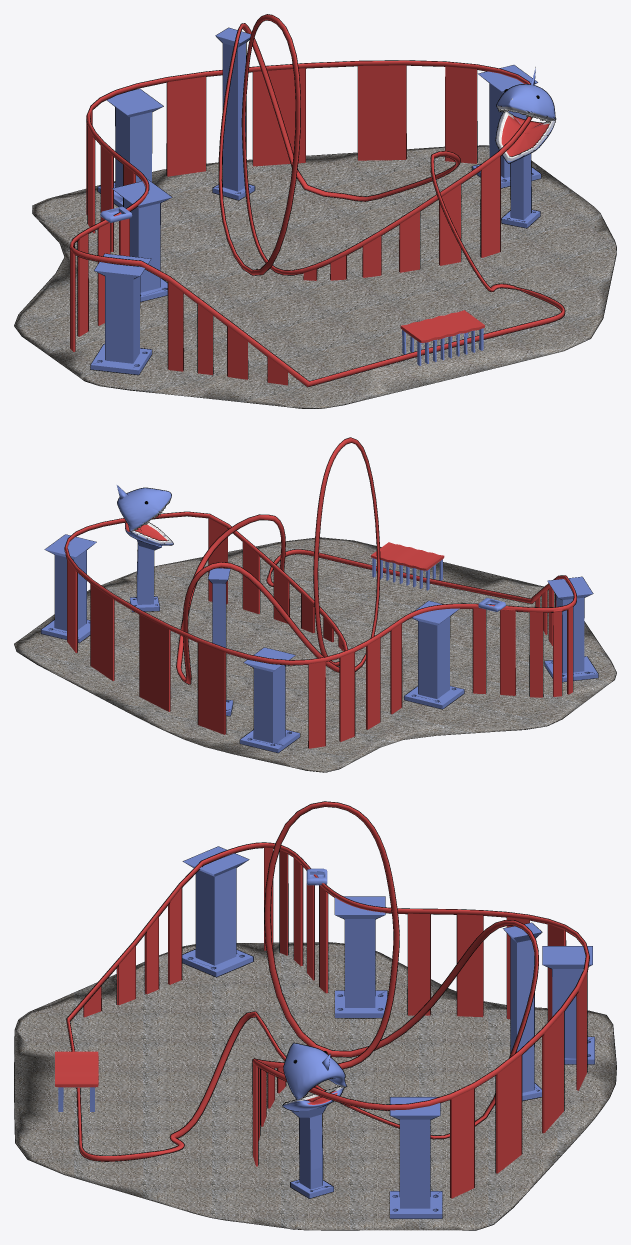
The model's file is montanha_russa.glb.
The picture shows the model from 3 angles, top to bottom: view 1: azimuth 30°, elevation 25°; view 2: azimuth 150°, elevation 25°; view 3: azimuth 270°, elevation 25°; orthographic projection. The views are drawn at different scales.
Visible parts, largest first — view 1: Park; view 2: Park; view 3: Park.
Part boxes in pixels (<box>): Park: <box>14,14,616,408</box>; Park: <box>14,437,616,772</box>; Park: <box>14,801,616,1230</box>.
Bounding box in the file's own units: 73.07 × 32.09 × 64.67.
Materials: 9 (1 with a texture image).
